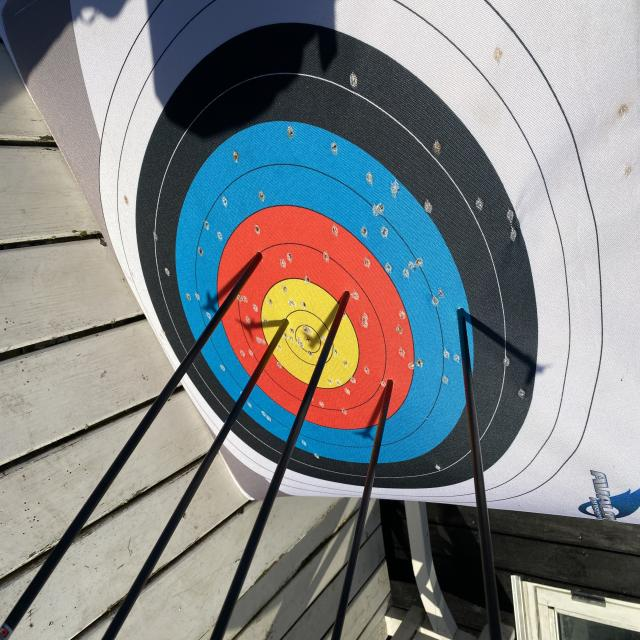Arrow_Blue: (448, 292, 474, 349)
Arrow_Red: (242, 230, 276, 277), (374, 362, 405, 405), (327, 273, 360, 310)
Arrow_Yellow: (274, 309, 297, 344)
